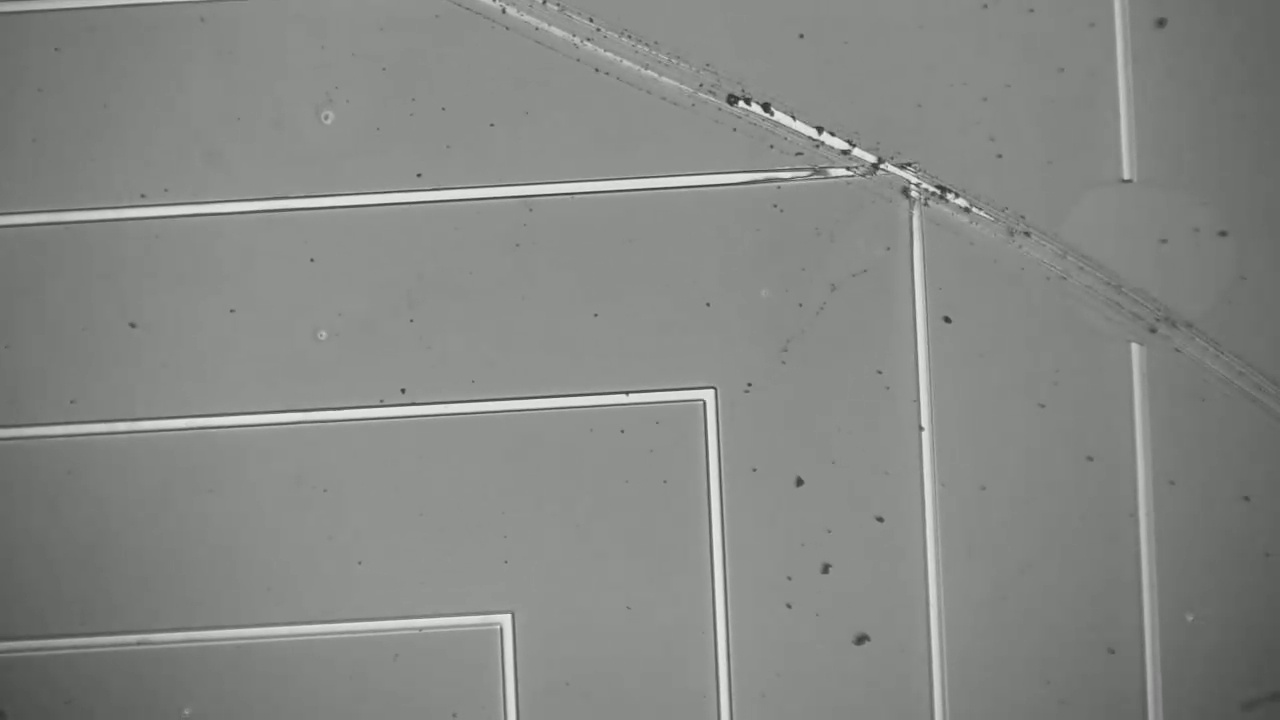open: (1082, 130, 1181, 373)
scratch: (918, 162, 1279, 519), (437, 0, 877, 160)
